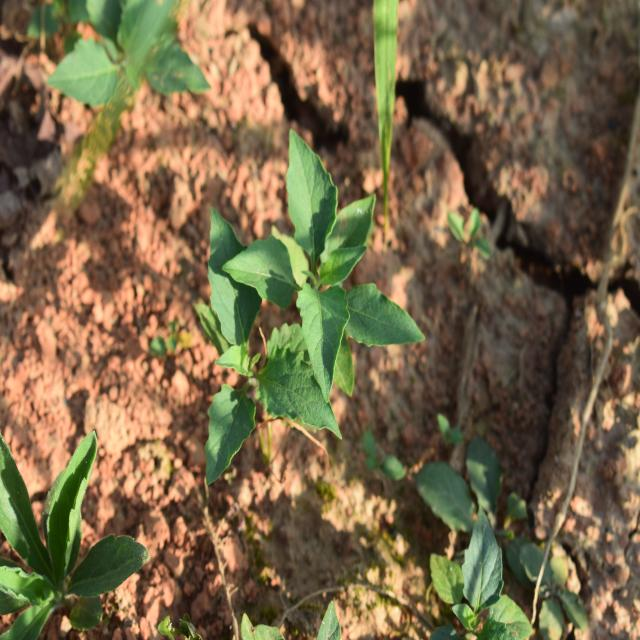Black_nightshade: (170, 146, 383, 469)
